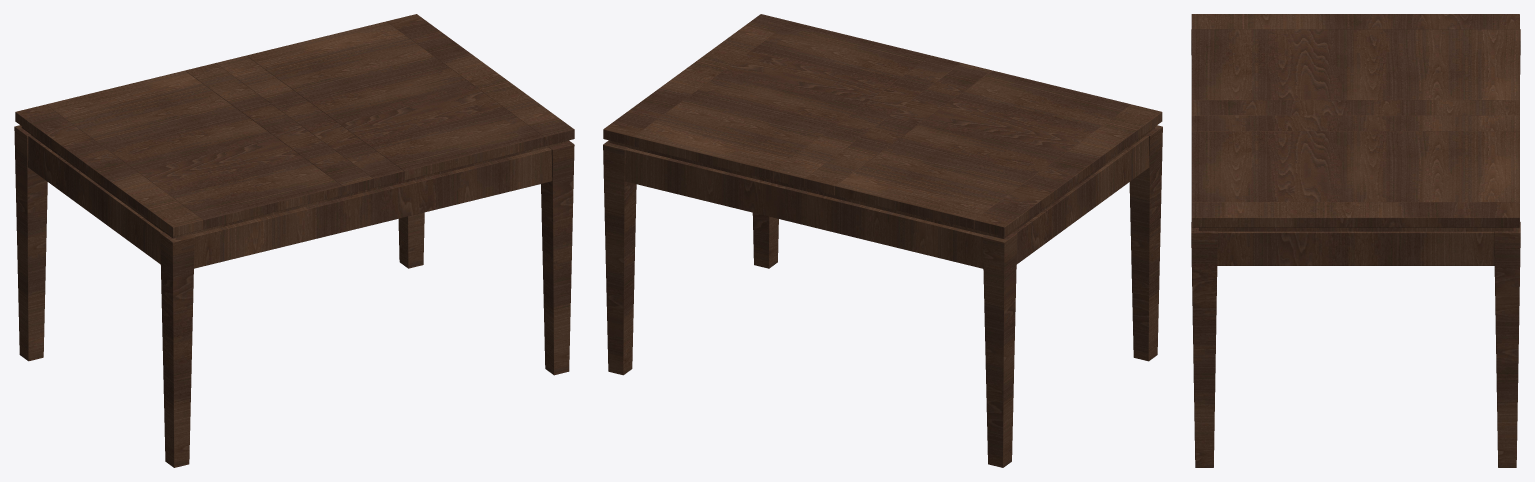
The picture shows the model from 3 angles, left to right: view 1: azimuth 30°, elevation 25°; view 2: azimuth 150°, elevation 25°; view 3: azimuth 270°, elevation 25°; orthographic projection. The views are drawn at different scales.
Visible parts, largest first — view 1: polySurface12; view 2: polySurface12; view 3: polySurface12.
Part boxes in pixels (box(x1,y1,x2,y2)): polySurface12: box(14, 14, 574, 467); polySurface12: box(603, 14, 1162, 467); polySurface12: box(1191, 14, 1520, 467).
Bounding box in the file's own units: 1.32 × 0.762 × 0.9017.
Materials: 1 (1 with a texture image).
